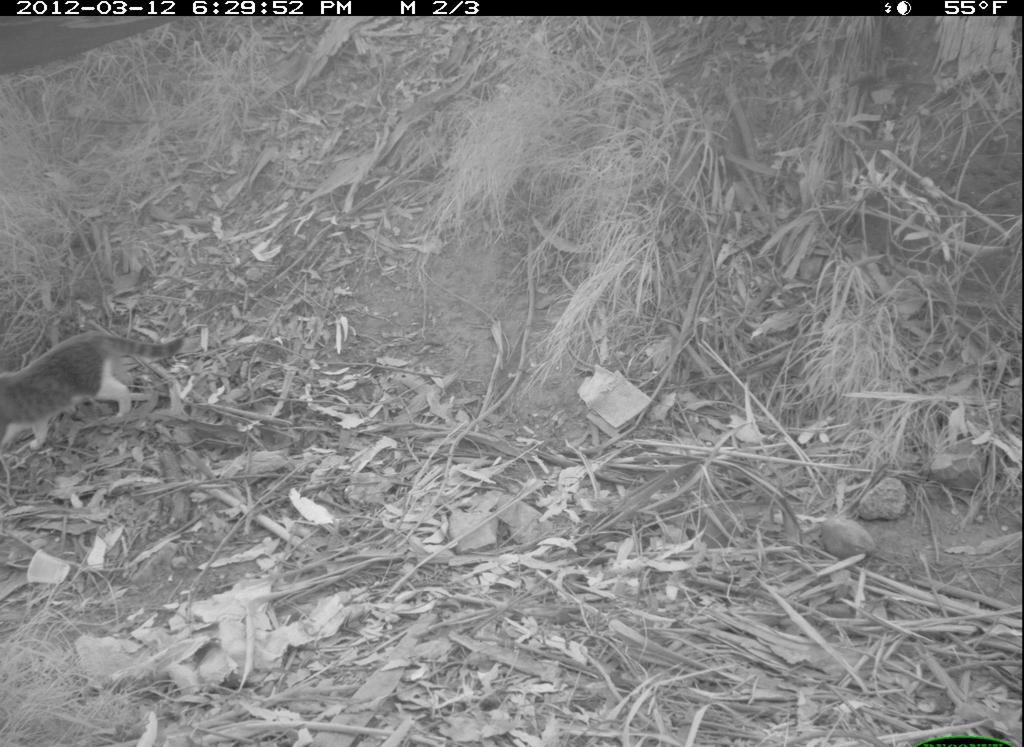cat: (2, 328, 184, 450)
